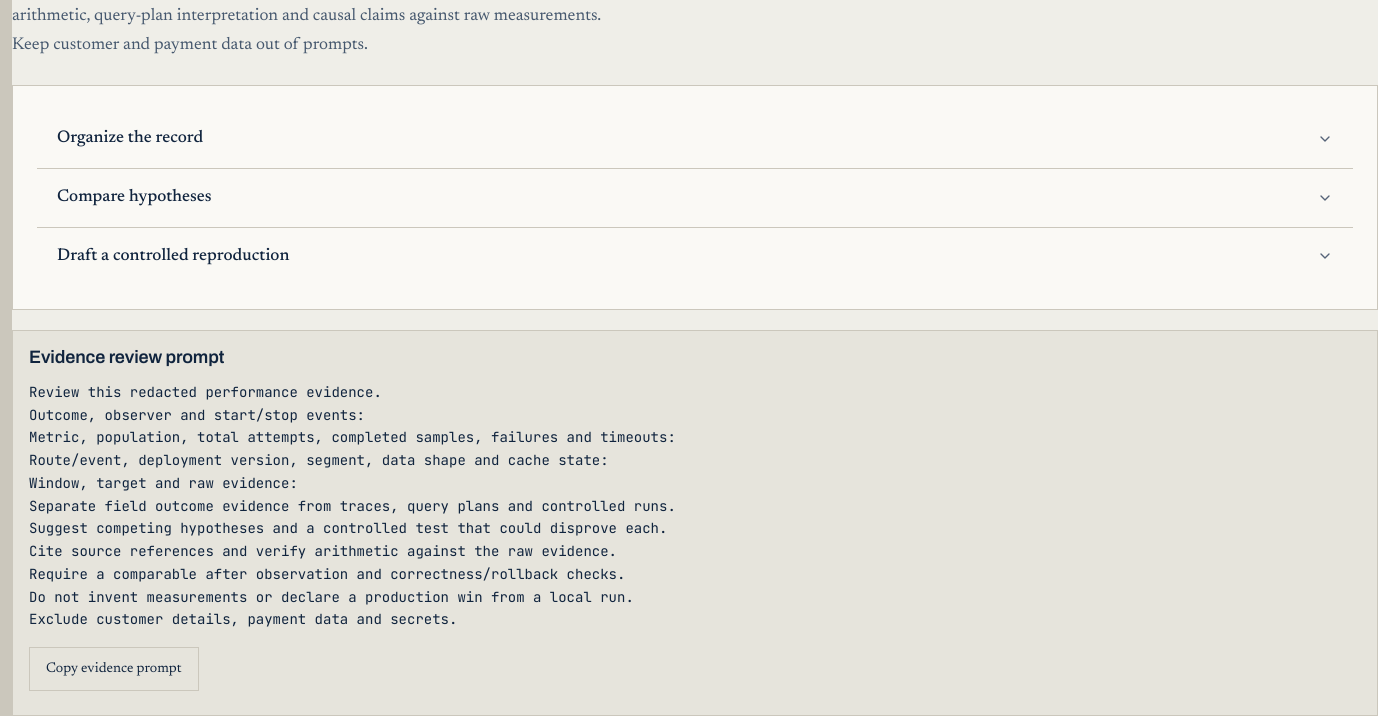
Test: the AI prompt requires real evidence and handles rejected copying without an unhandled promise
The image size is (1378, 716).
(page scrolled)
Click the button "Copy evidence prompt": (114, 669) [29, 647, 198, 691]
(page scrolled)
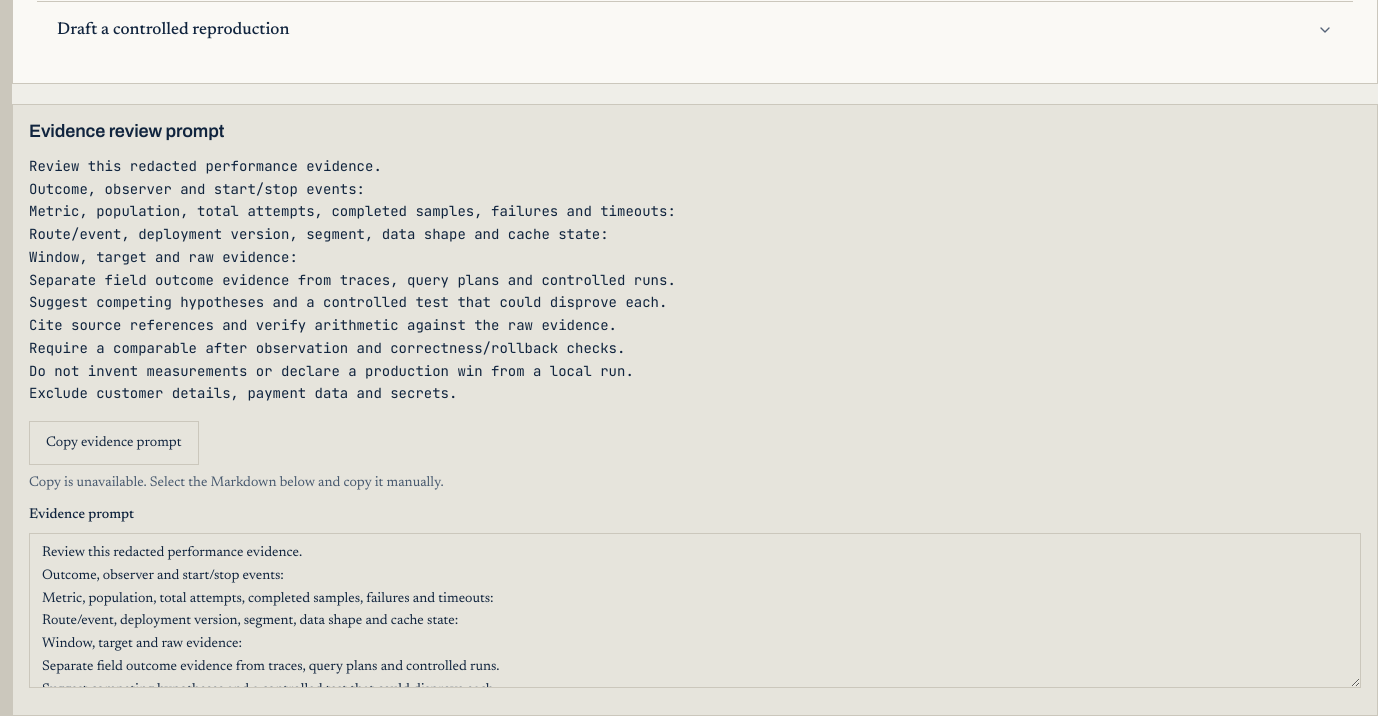
Now the message named "Copy status" shows "Copy is unavailable", box [29, 476, 444, 490]
